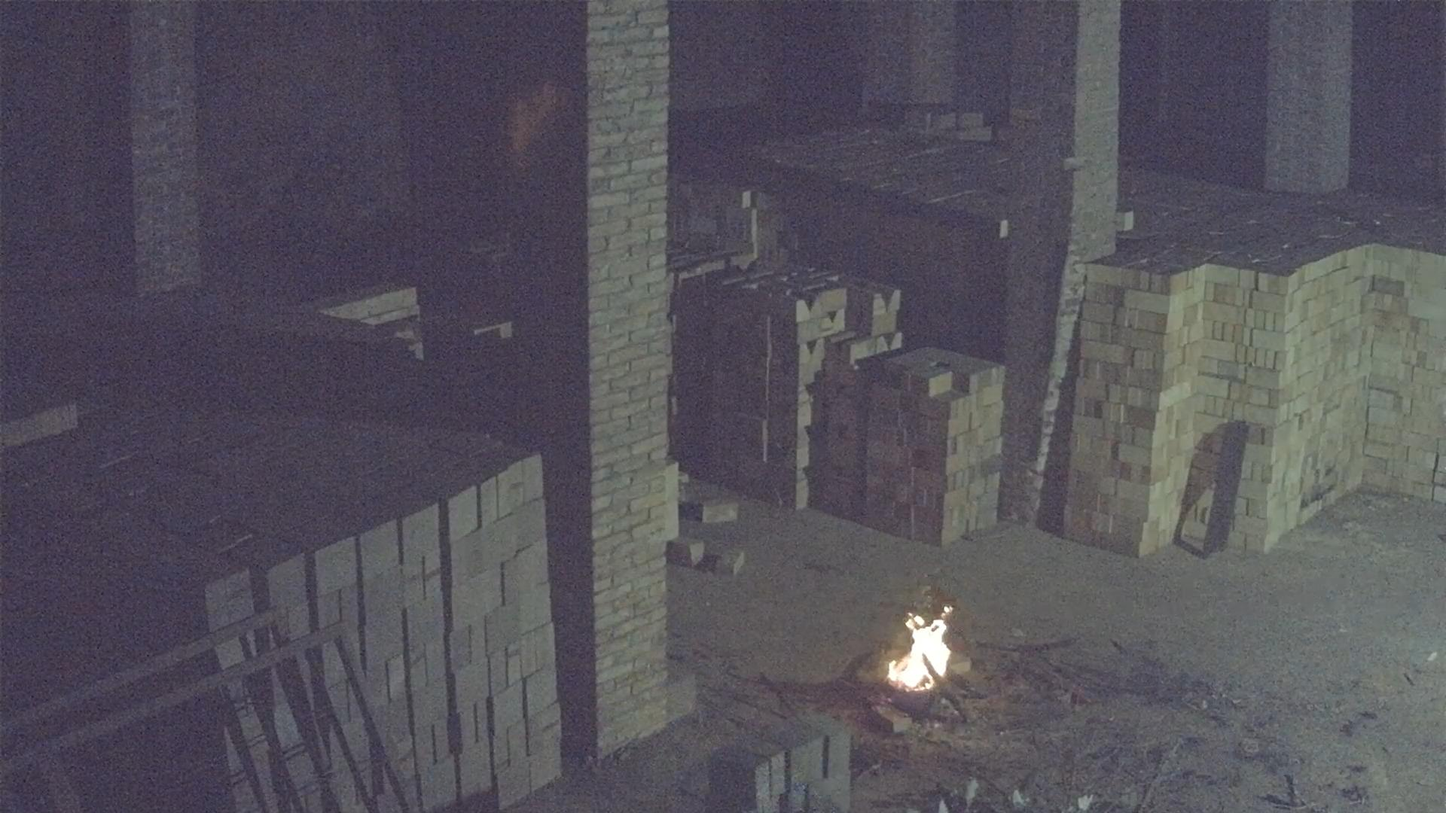fire: (887, 614, 951, 691)
